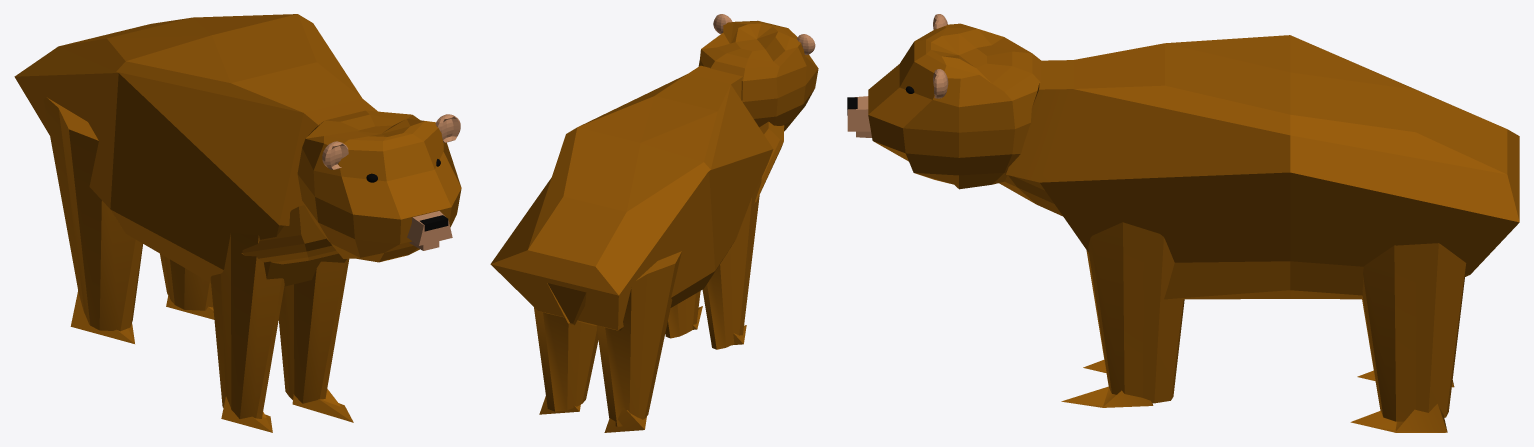
File: Baer.fbx
3 views of the same model, side by side, from view 1: azimuth 30°, elevation 25°; view 2: azimuth 150°, elevation 25°; view 3: azimuth 270°, elevation 25° (orthographic). The views are drawn at different scales.
Visible parts, largest first — view 1: polySurface1; view 2: polySurface1; view 3: polySurface1.
Boxes of the visible parts, bbox=[...] form: polySurface1: bbox=[14, 14, 461, 432]; polySurface1: bbox=[490, 14, 818, 432]; polySurface1: bbox=[847, 14, 1519, 432].
Size of the model in its own units: 1.19 by 2 by 3.35.
